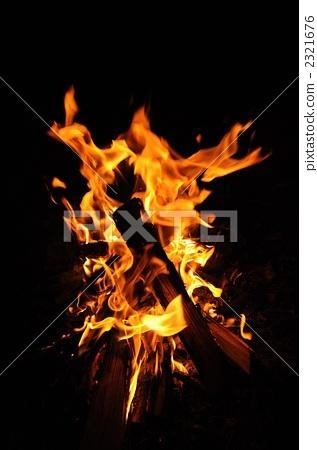fire: (44, 86, 258, 355)
